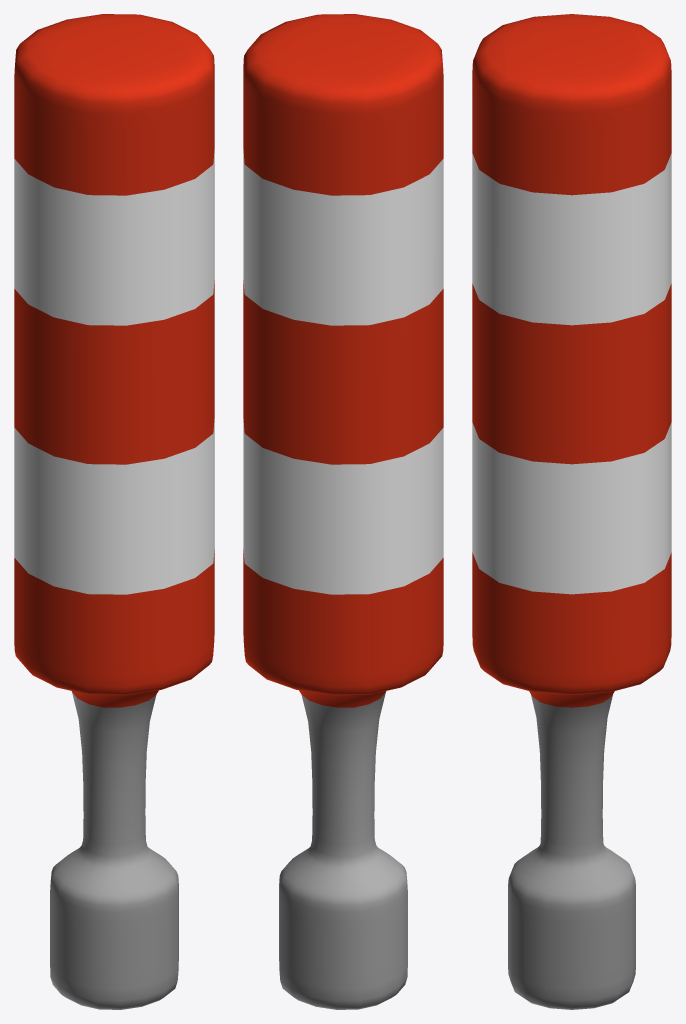
File: trap_trapcirclehorizontalred.glb
3 views of the same model, side by side, from view 1: azimuth 30°, elevation 25°; view 2: azimuth 150°, elevation 25°; view 3: azimuth 270°, elevation 25° (orthographic).
Visible parts, largest first — view 1: Cube.024_visual; view 2: Cube.024_visual; view 3: Cube.024_visual.
Boxes of the visible parts, x1,y1,x2,y2 form: Cube.024_visual: (14, 14, 214, 1009); Cube.024_visual: (243, 14, 443, 1009); Cube.024_visual: (472, 14, 671, 1009).
Size of what is drawn, in the model's own units: 0.6443 by 3.37 by 0.6443.
1 material, 1 textured.
